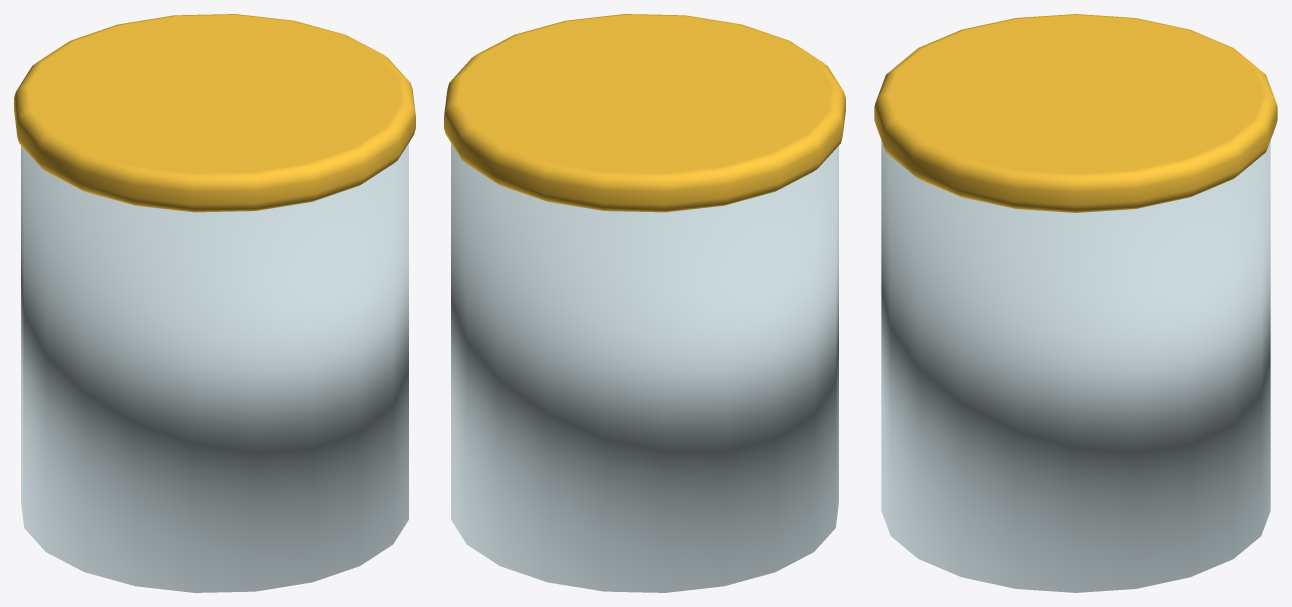
Rendered from SpecimenJar.fbx.
3 renders of one model, left to right at view 1: azimuth 30°, elevation 25°; view 2: azimuth 150°, elevation 25°; view 3: azimuth 270°, elevation 25°, orthographic.
Visible parts, largest first — view 1: SpecimenJar mesh; view 2: SpecimenJar mesh; view 3: SpecimenJar mesh.
Boxes of the visible parts, left/top/right/bottom form: SpecimenJar mesh: left=14, top=14, right=415, bottom=592; SpecimenJar mesh: left=444, top=14, right=845, bottom=592; SpecimenJar mesh: left=874, top=14, right=1277, bottom=592.
Bounding box in the file's own units: 0.29 × 0.33 × 0.29.
